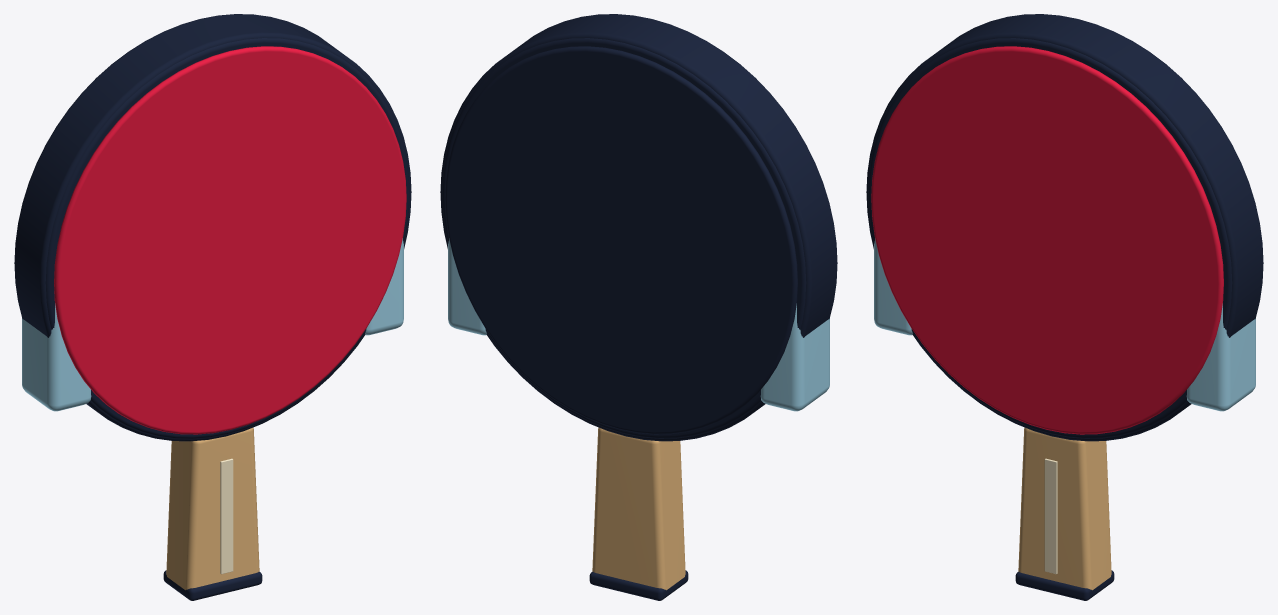
Rendered from MegaSmash.glb.
The picture shows the model from 3 angles, left to right: view 1: azimuth 30°, elevation 25°; view 2: azimuth 150°, elevation 25°; view 3: azimuth 330°, elevation 25°; orthographic projection.
Parts seen in each view (by area): view 1: FrontRubber, OuterRim, WoodHandle, RimLip, PowerGuard-1, PowerGuard1, HandleInlay, HandleButt; view 2: BackRubber, OuterRim, WoodHandle, RimLip, PowerGuard-1, PowerGuard1, HandleButt; view 3: FrontRubber, OuterRim, WoodHandle, RimLip, PowerGuard1, PowerGuard-1, HandleInlay, HandleButt.
Boxes of the visible parts, box(x1,y1,x2,y2) form: FrontRubber: box(54, 46, 406, 434); OuterRim: box(14, 14, 411, 441); WoodHandle: box(166, 427, 259, 590); RimLip: box(45, 38, 409, 438); PowerGuard-1: box(22, 303, 91, 411); PowerGuard1: box(365, 238, 403, 335); HandleInlay: box(220, 458, 233, 574); HandleButt: box(163, 570, 262, 600); BackRubber: box(445, 46, 797, 434); OuterRim: box(440, 14, 837, 441); WoodHandle: box(592, 427, 685, 590); RimLip: box(442, 38, 806, 438); PowerGuard-1: box(760, 303, 829, 411); PowerGuard1: box(448, 238, 486, 335); HandleButt: box(589, 570, 688, 600); FrontRubber: box(871, 46, 1223, 434); OuterRim: box(866, 14, 1263, 441); WoodHandle: box(1018, 427, 1111, 590); RimLip: box(868, 38, 1232, 438); PowerGuard1: box(1186, 303, 1255, 411); PowerGuard-1: box(874, 238, 912, 335); HandleInlay: box(1044, 458, 1057, 574); HandleButt: box(1015, 570, 1114, 600).
Bounding box in the file's own units: 0.76 × 1.09 × 0.137.
